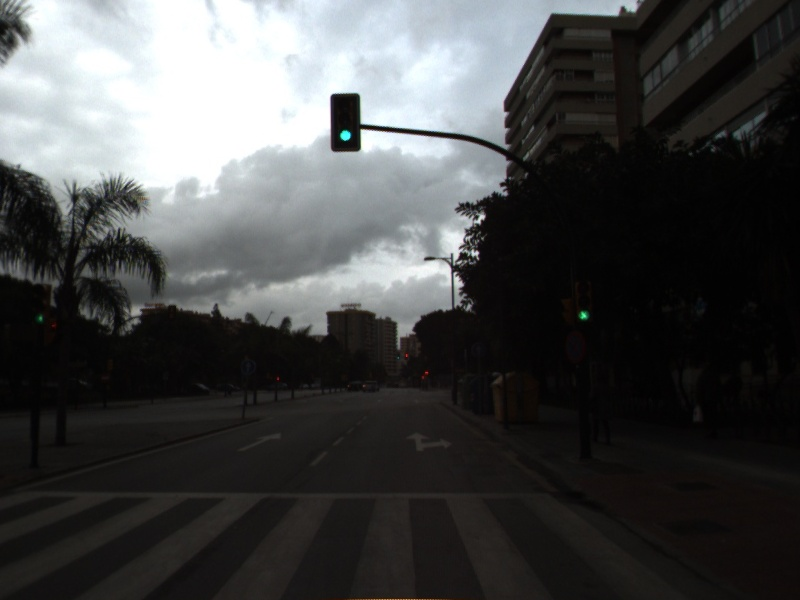STRAIGHT: (235, 430, 283, 454)
STRAIGHT_RIGHT: (403, 429, 455, 453)
